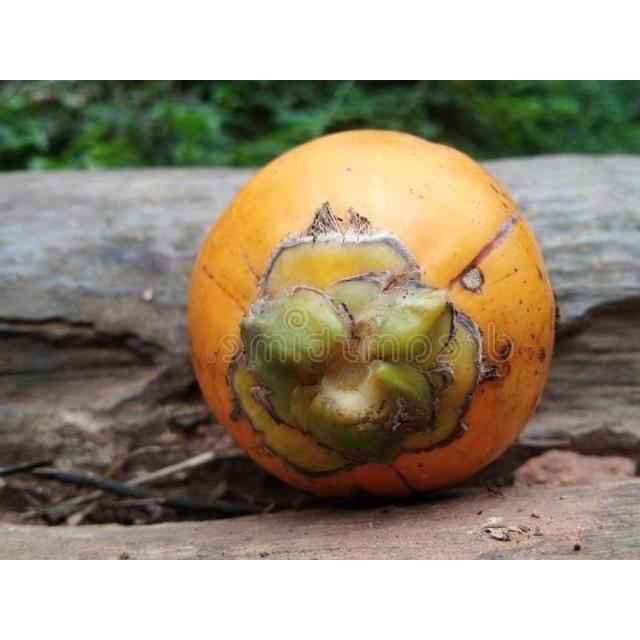good: (187, 130, 558, 506)
